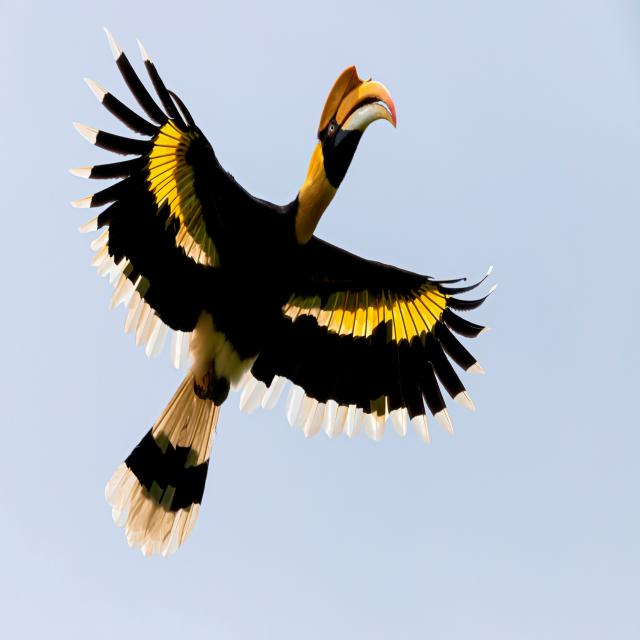Hornbill: (75, 39, 488, 566)
